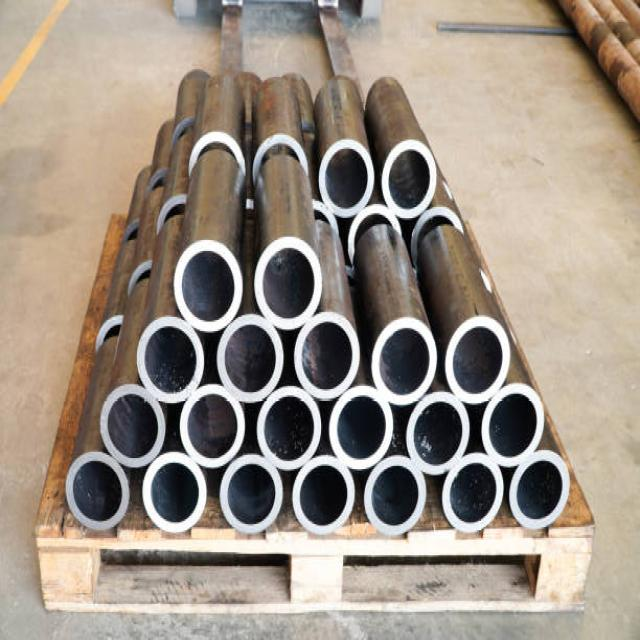Wooden-Pallets: (38, 525, 596, 612)
